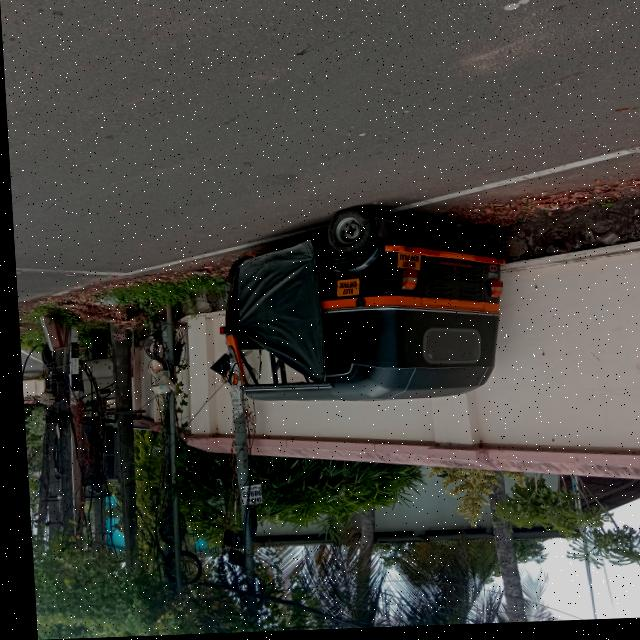plate: (393, 254, 421, 275), (333, 281, 357, 299)
